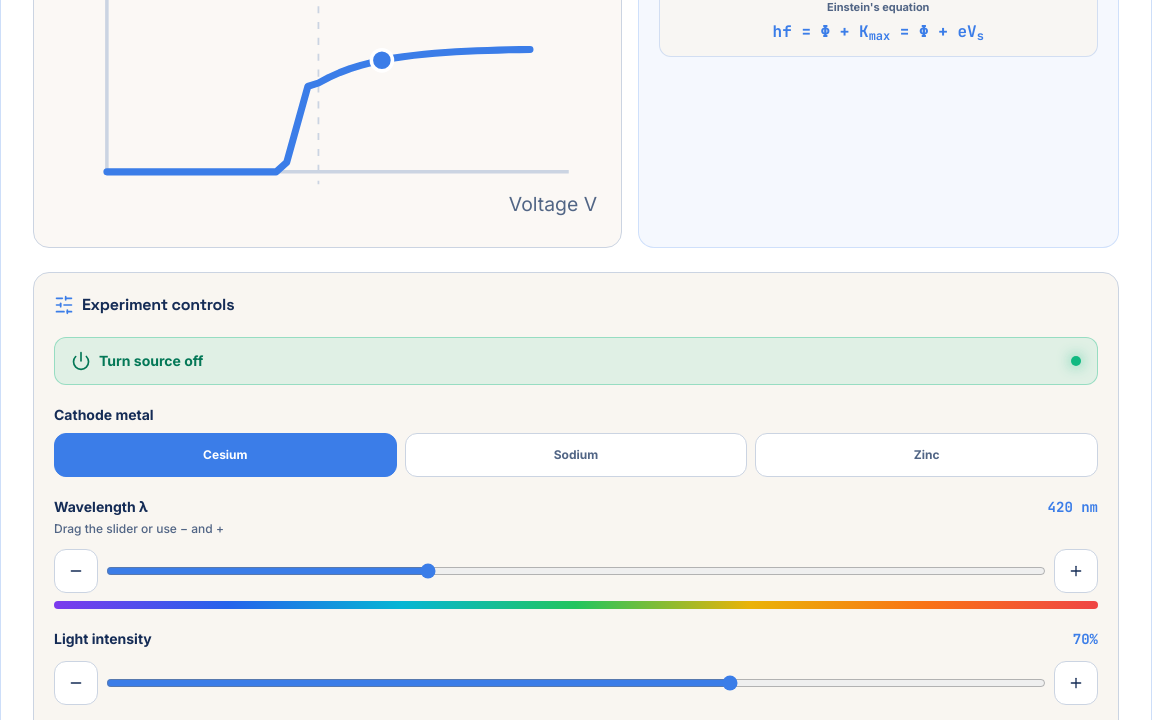
Test case: PhotoelectricEffectActivity › turns the light source off and applies guided steps
The width and height of the screenshot is (1152, 720).
(page scrolled)
Click the button "Turn source off". click: click(151, 360)
box: [54,337,1098,385]
(page scrolled)
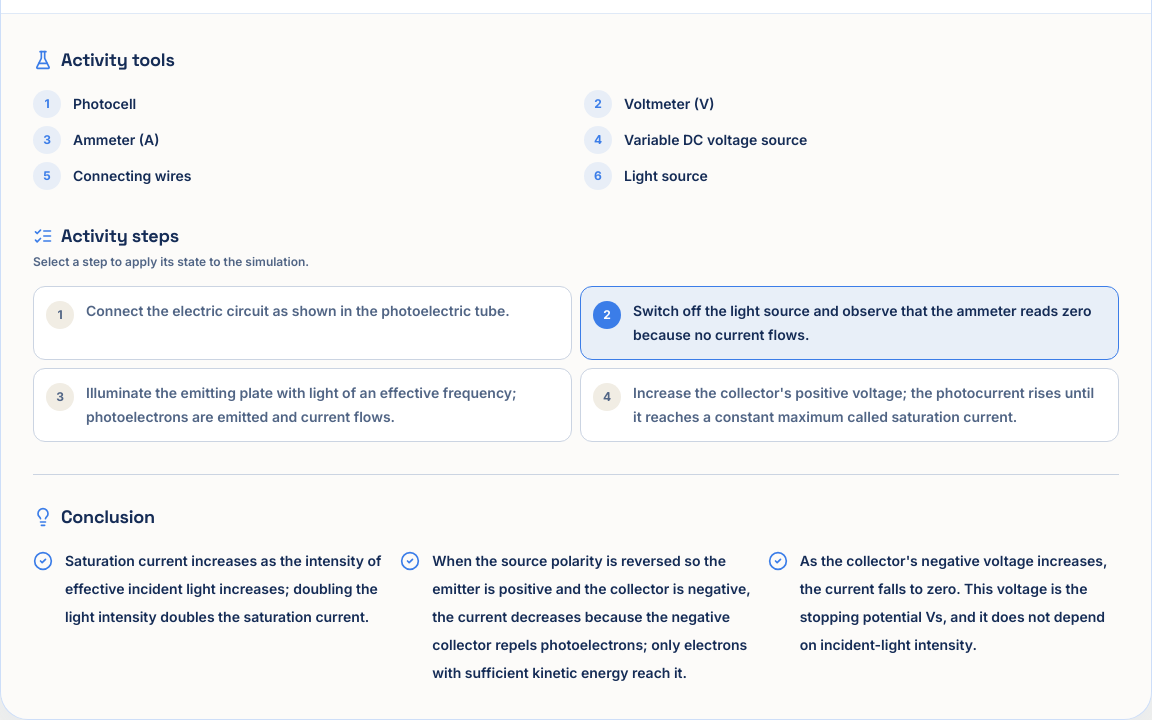
Click the button "Illuminate the emitting plate". click: click(302, 405)
box: [33,368,572,442]
(page scrolled)
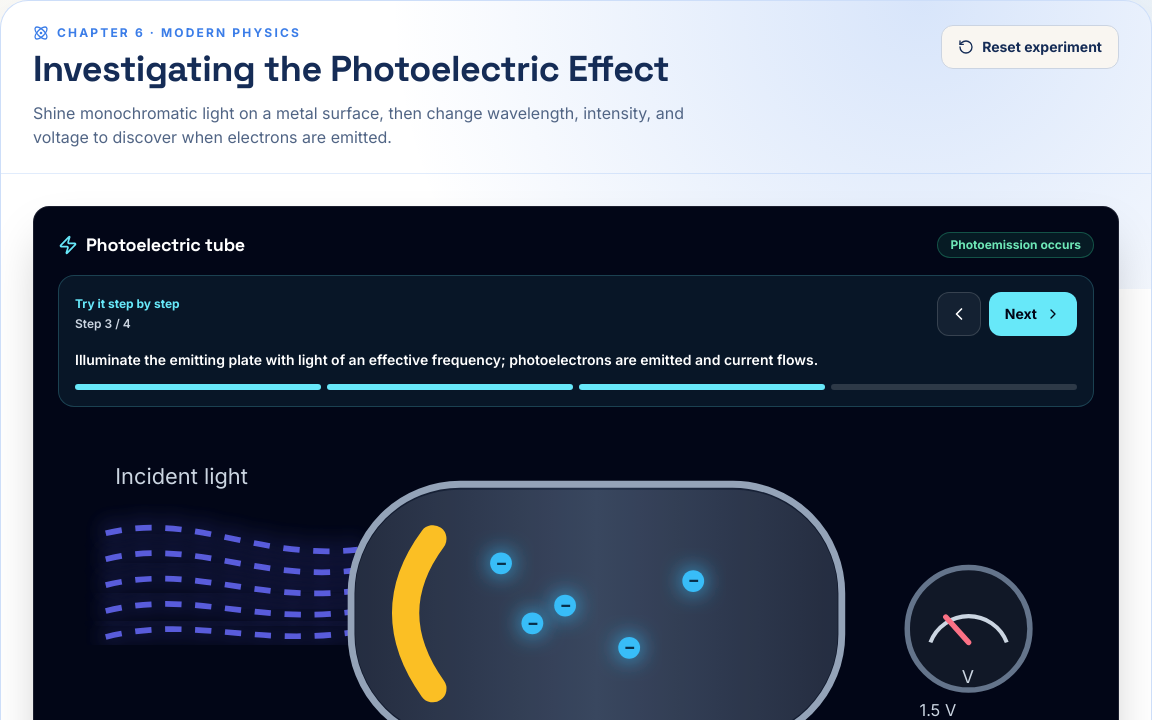
expect the text "Photoemission occurs" is shown: met, box [938,232,1094,258]
